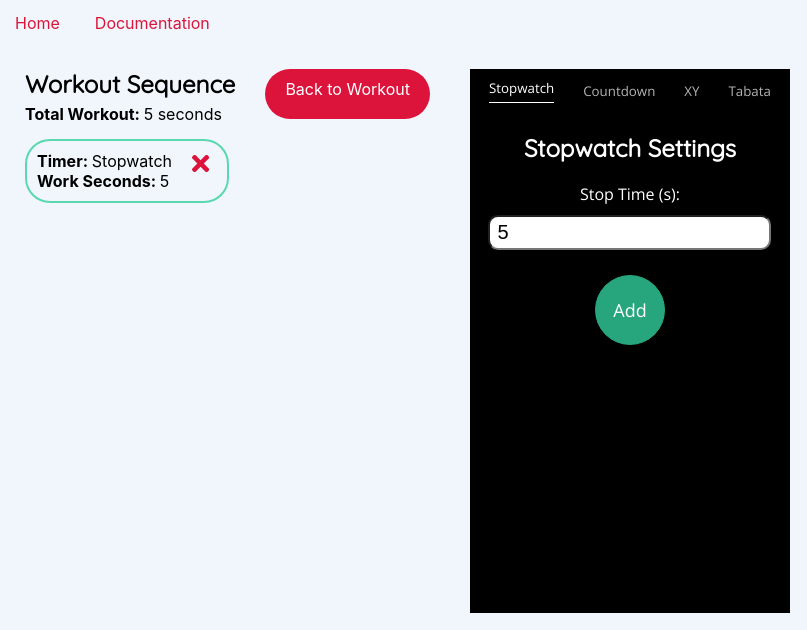
Test: Form › can remove a sequence
The width and height of the screenshot is (807, 630).
What coordinates should you click on to do the following:
click the button with class "close-btn"
I would click on:
 (201, 164)
Its box is x1=192 y1=151 x2=209 y2=176.
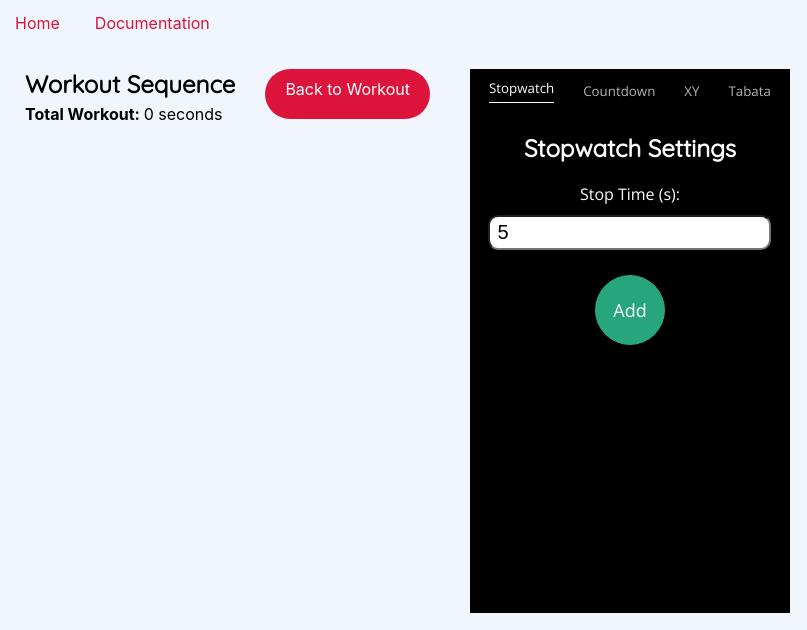
Now the element with class "seq-item-active" is gone
